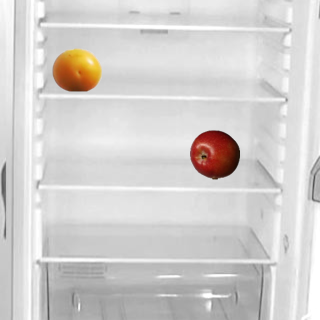Apple Braeburn: (189, 129, 239, 179)
Cherry Wax Yellow: (51, 44, 101, 94)
